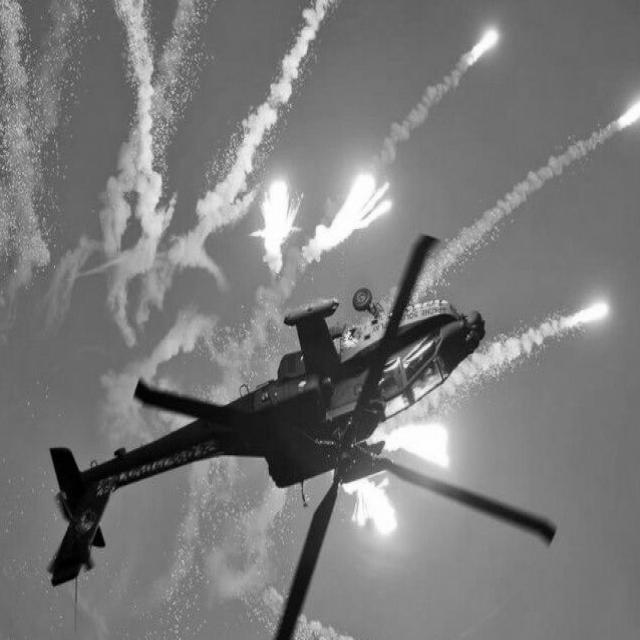helicopter: (45, 241, 561, 640)
